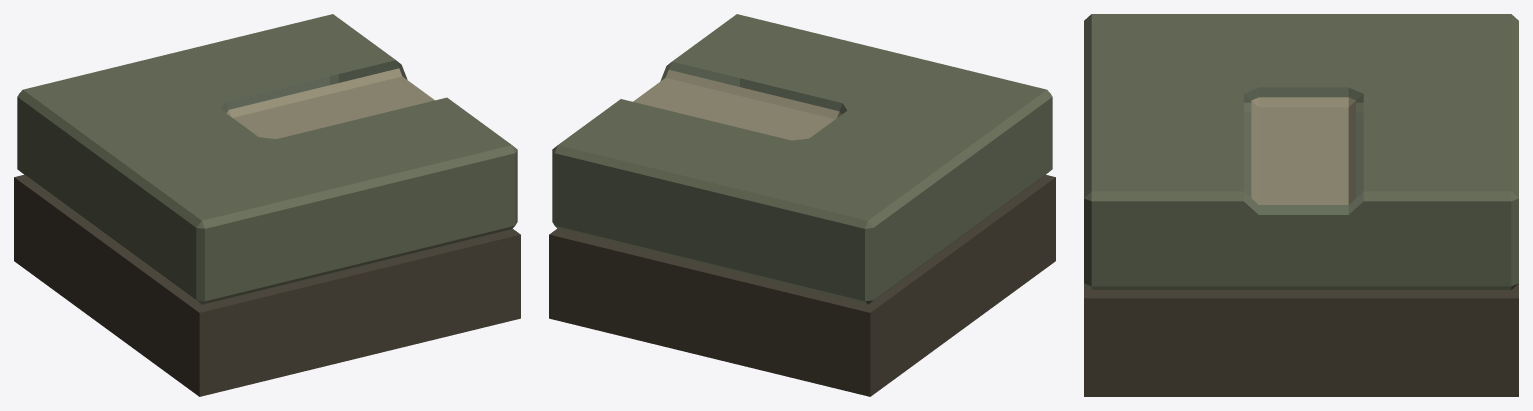
Rendered from Path 4 detailed.fbx.
The picture shows the model from 3 angles, left to right: view 1: azimuth 30°, elevation 25°; view 2: azimuth 150°, elevation 25°; view 3: azimuth 270°, elevation 25°; orthographic projection. The views are drawn at different scales.
Parts seen in each view (by area): view 1: polySurface3800; view 2: polySurface3800; view 3: polySurface3800.
Boxes of the visible parts, x1,y1,x2,y2 form: polySurface3800: [14, 14, 520, 396]; polySurface3800: [549, 14, 1055, 396]; polySurface3800: [1084, 14, 1518, 396].
Bounding box in the file's own units: 56.97 × 29.24 × 56.97.
